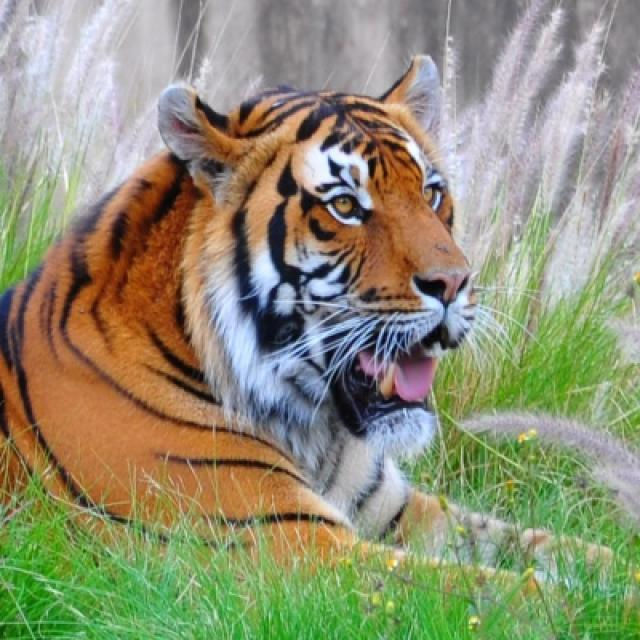Tiger: (0, 56, 475, 550)
